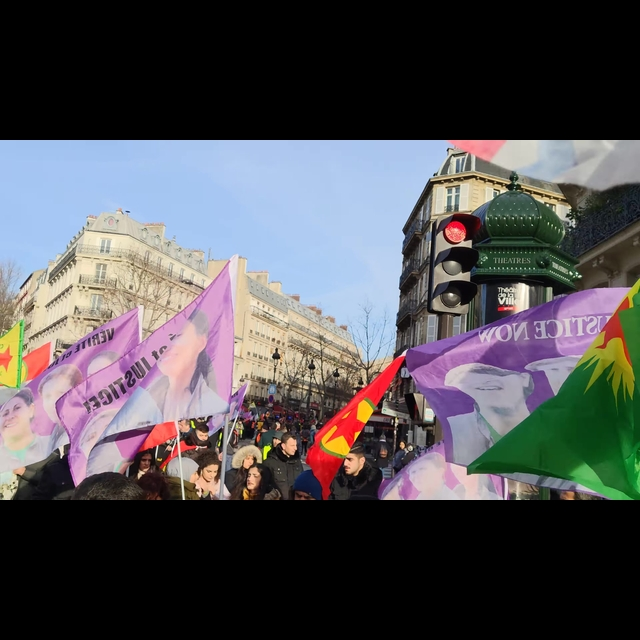PKK: (306, 350, 412, 501)
